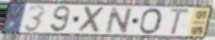3: (22, 4, 49, 33)
9: (49, 5, 73, 34)
N: (104, 6, 134, 34)
O: (137, 7, 164, 36)
T: (168, 7, 191, 36)
X: (77, 5, 108, 34)
